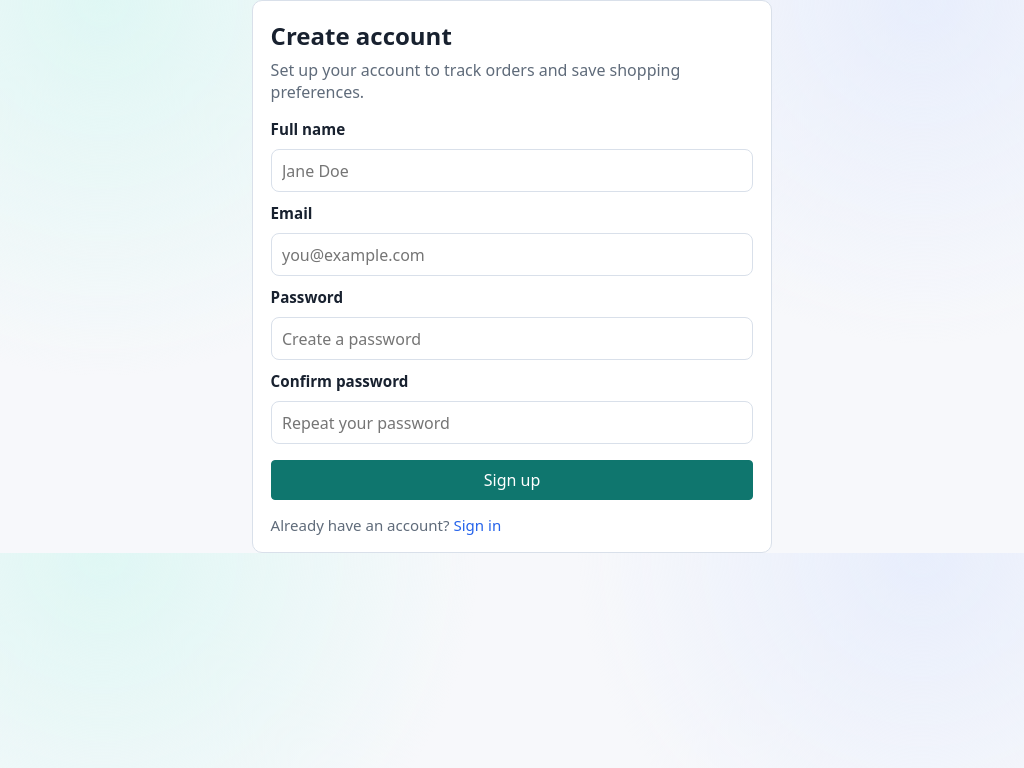
Test: SignUp › submits trimmed registration data and shows the registered email
Type "  New User  " into the field labelled "Full name" at (512, 171), box top-left (271, 149), bottom-right (753, 192)
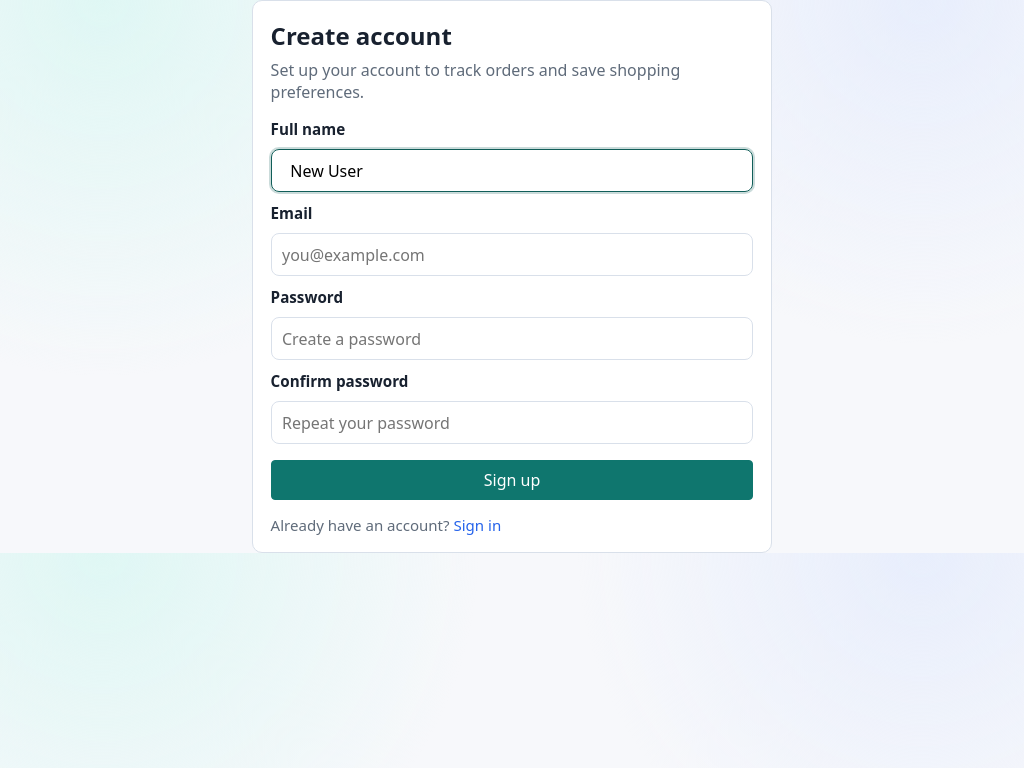
Type "  new@example.com  " into the field labelled "Email" at (512, 255), box top-left (271, 233), bottom-right (753, 276)
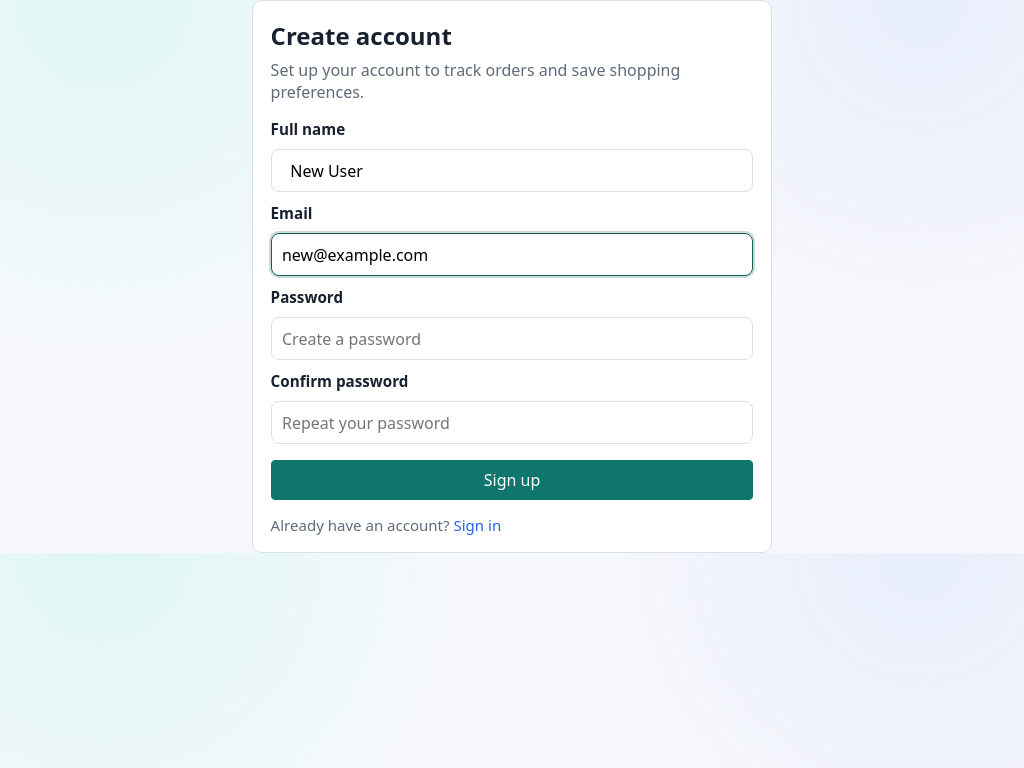
Type "secret123" into the password field labelled "Password" at (512, 339), box top-left (271, 317), bottom-right (753, 360)
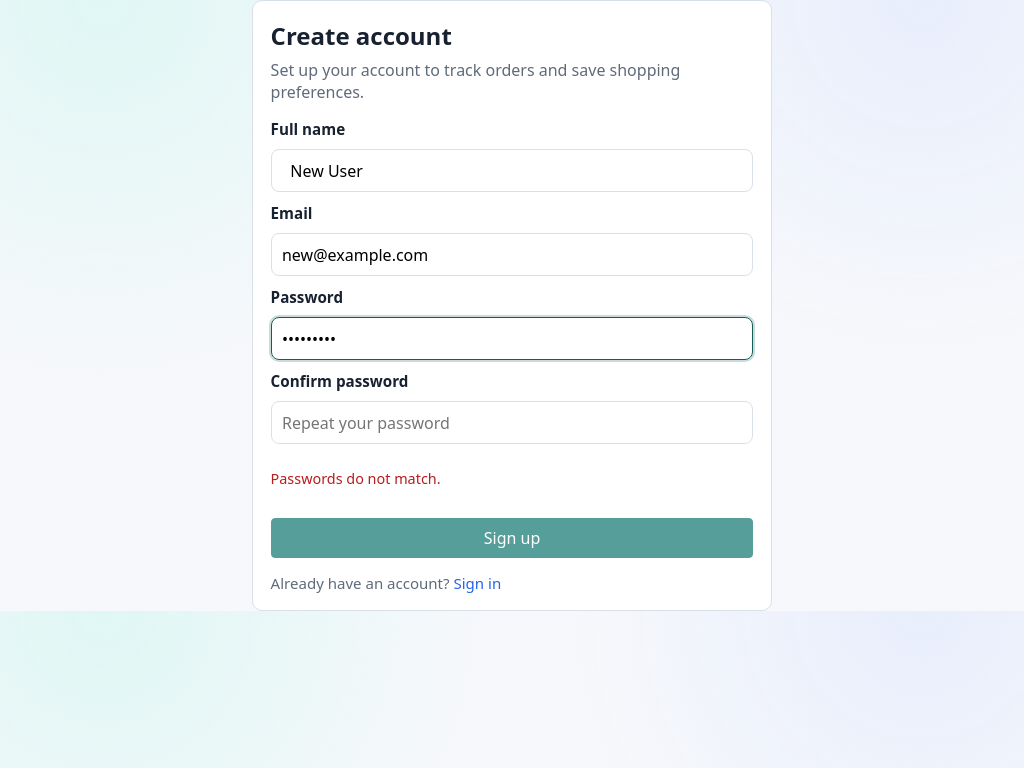
Type "secret123" into the password field labelled "Confirm password" at (512, 423), box top-left (271, 401), bottom-right (753, 444)
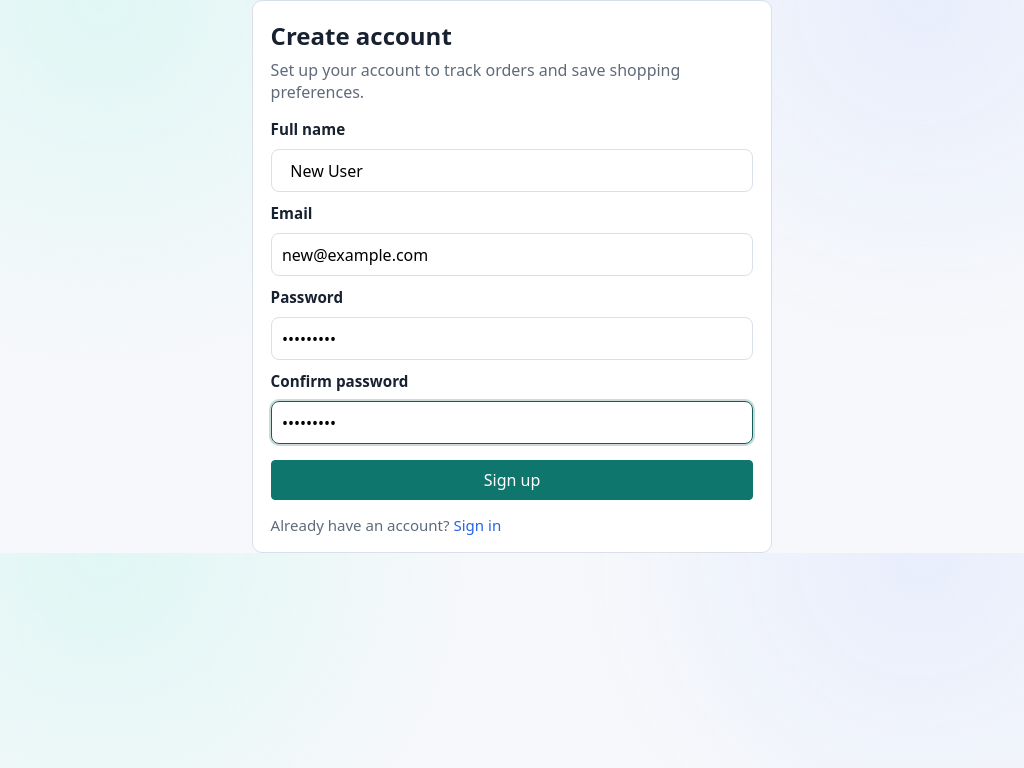
Click the button "Sign up" at (512, 480), box top-left (271, 460), bottom-right (753, 500)
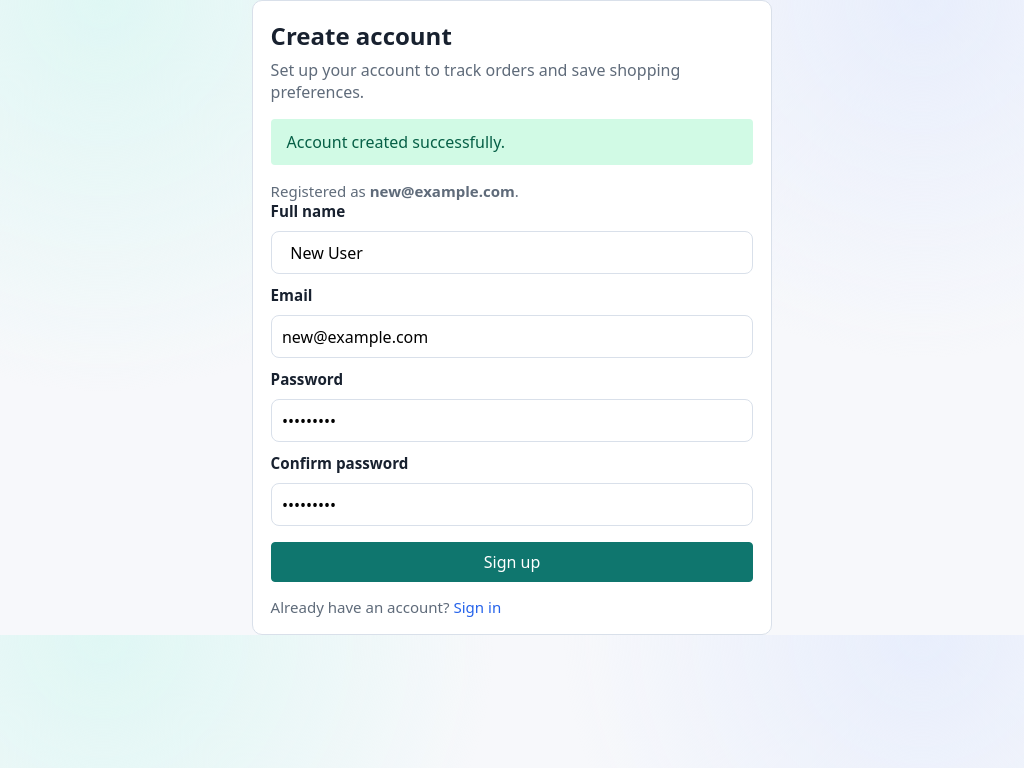
Expected: the message reads "Account created successfully.", top-left (287, 131), bottom-right (505, 153)
Expected: the text "Registered as new@example.com." is shown, top-left (271, 181), bottom-right (519, 201)
Expected: the text "new@example.com" is shown, top-left (370, 181), bottom-right (515, 201)
